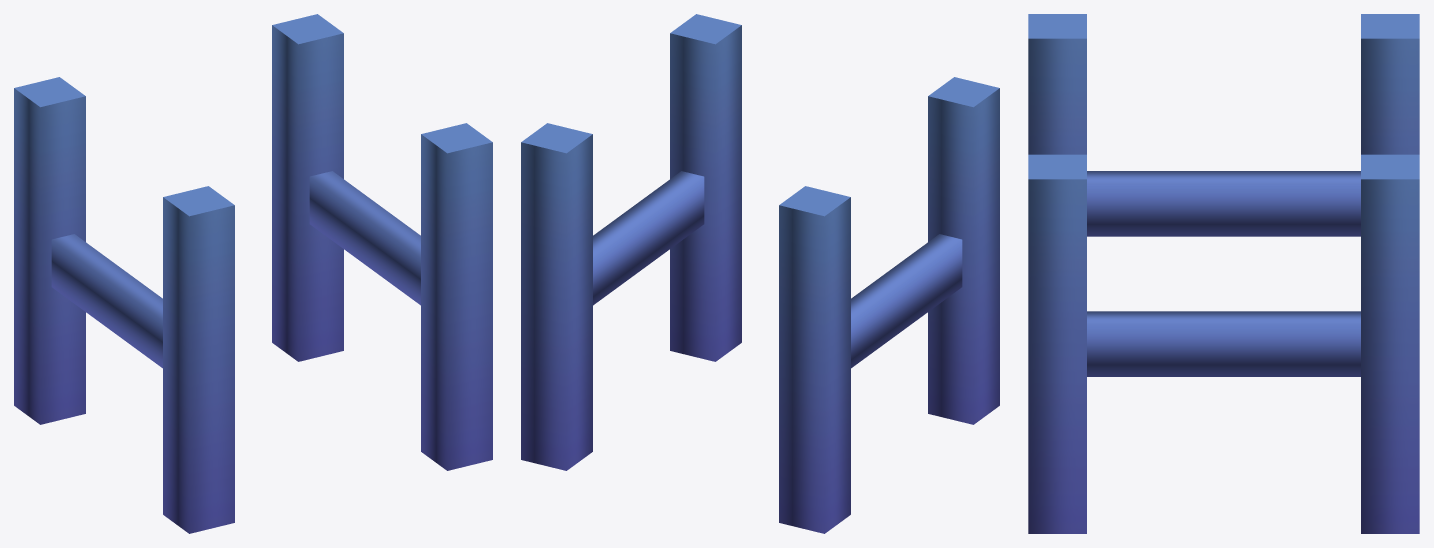
Rendered from kenney-toy-car-supports.glb.
The picture shows the model from 3 angles, left to right: view 1: azimuth 30°, elevation 25°; view 2: azimuth 150°, elevation 25°; view 3: azimuth 270°, elevation 25°; orthographic projection. The views are drawn at different scales.
Visible parts, largest first — view 1: supports; view 2: supports; view 3: supports.
Boxes of the visible parts, x1,y1,x2,y2 form: supports: [14, 14, 492, 533]; supports: [521, 14, 999, 533]; supports: [1028, 14, 1419, 533].
Size of the model in its own units: 1 by 1 by 1.
Materials: 1 (1 with a texture image).
